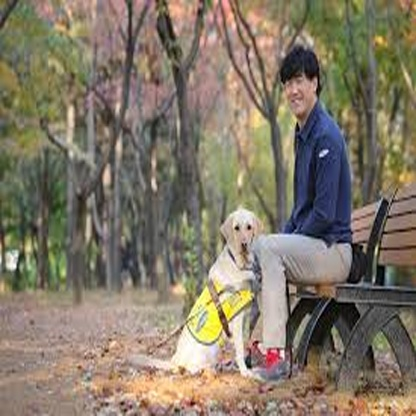guide-dog: (143, 207, 268, 383)
